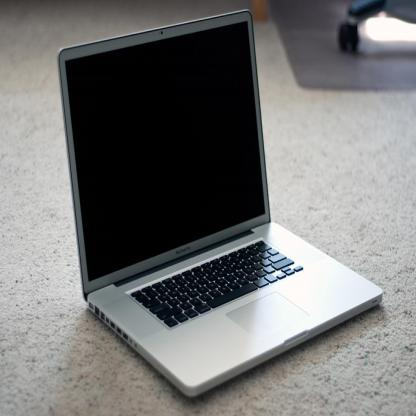board: (59, 8, 382, 394)
